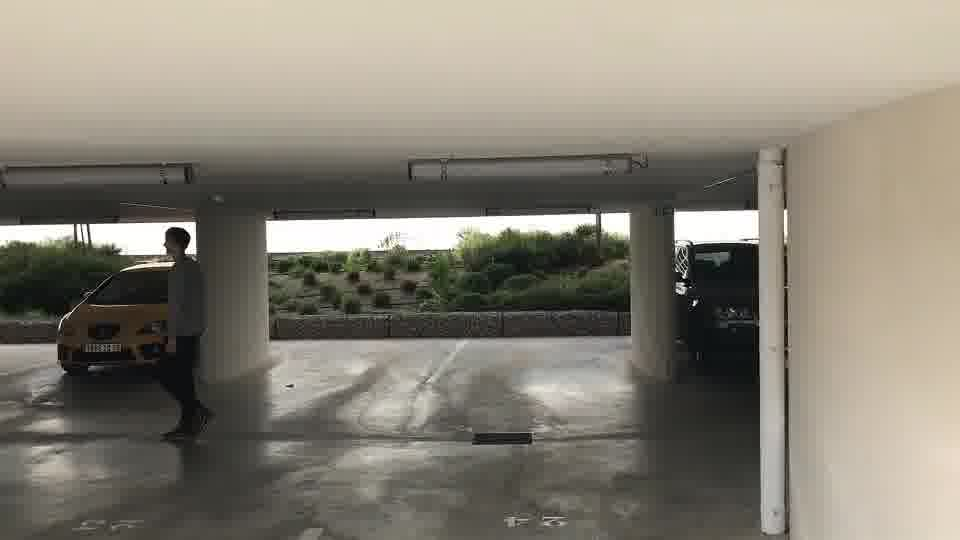jugador: (147, 223, 216, 448)
